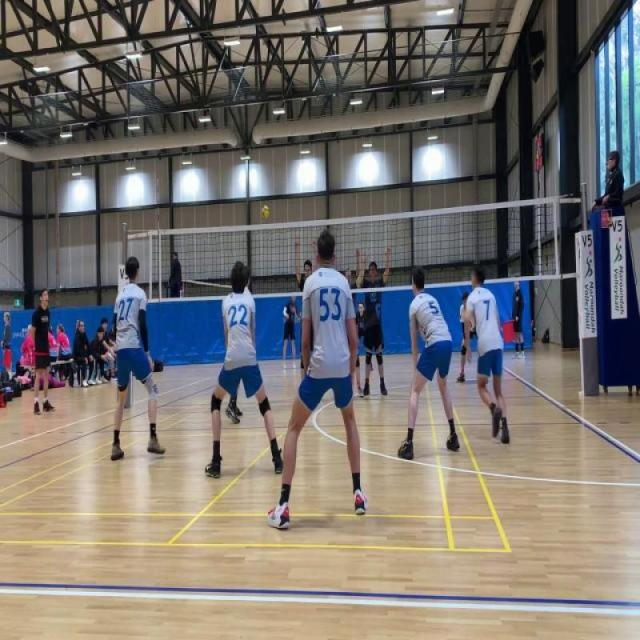volleyball: (260, 204, 271, 220)
